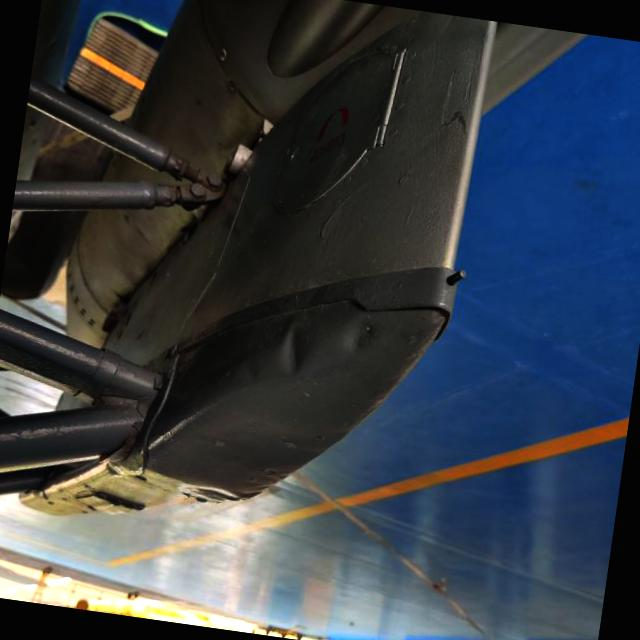dent: (262, 309, 318, 385), (332, 303, 391, 367)
